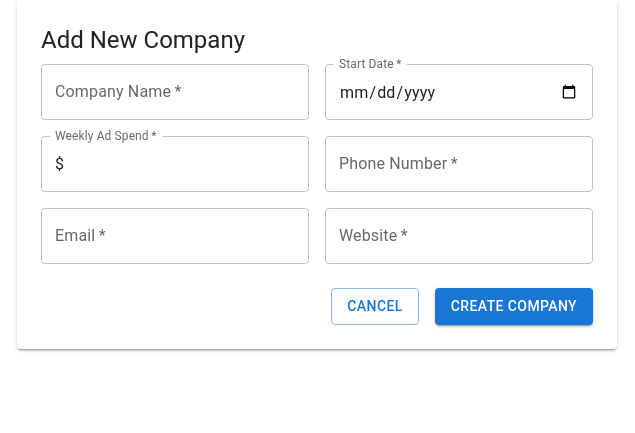
Scenario: CompanyForm › Create Mode › handles API errors
// Fill out the form with valid data
Type "Test Company" into the field labelled "Company Name *". click: (175, 92)
box: [41, 64, 309, 120]
Type "2023-01-01" into the date field labelled "Start Date *". click: (459, 92)
box: [325, 64, 593, 120]
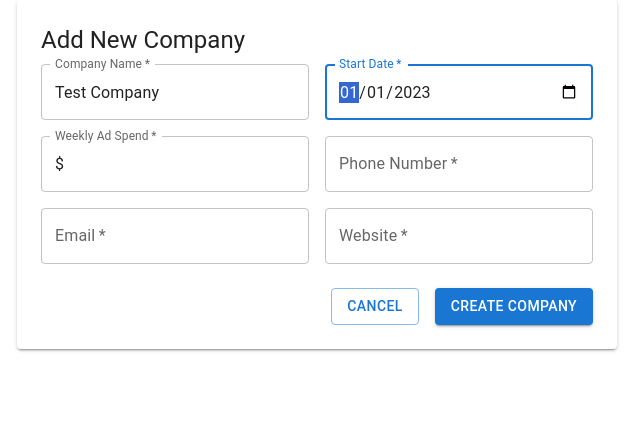
Type "+1234567890" into the field labelled "Phone Number *". click: (459, 164)
box: [325, 136, 593, 192]
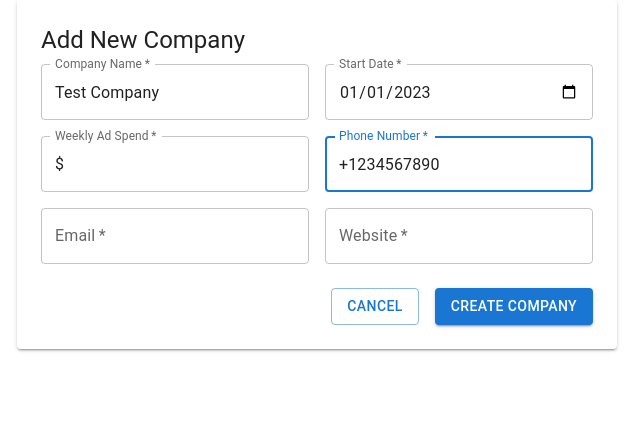
Type "test@company.com" into the field labelled "Email *". click: (175, 236)
box: [41, 208, 309, 264]
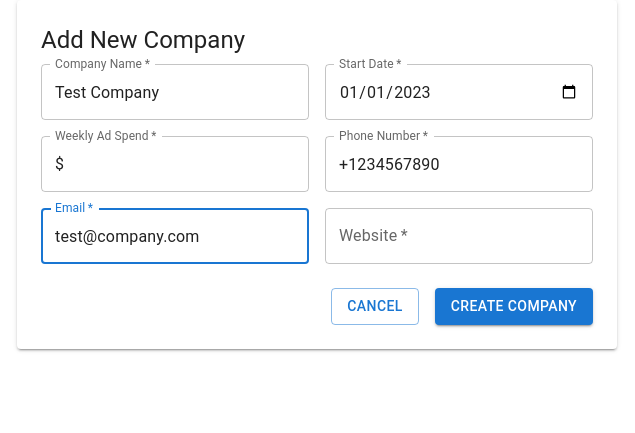
Type "https://testcompany.com" into the field labelled "Website *". click: (459, 236)
box: [325, 208, 593, 264]
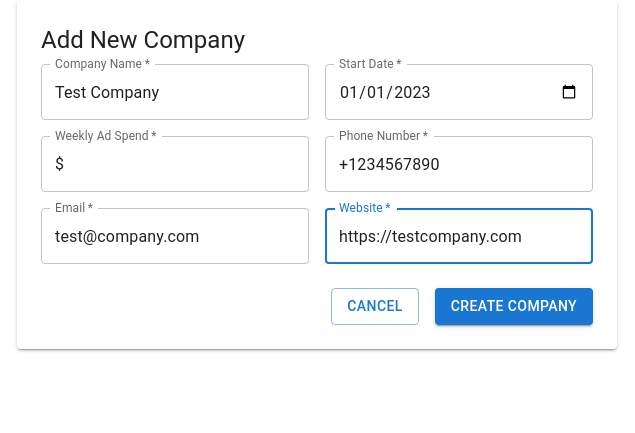
Type "5000" into the number field labelled "Weekly Ad Spend *". click: (191, 164)
box: [72, 136, 309, 192]
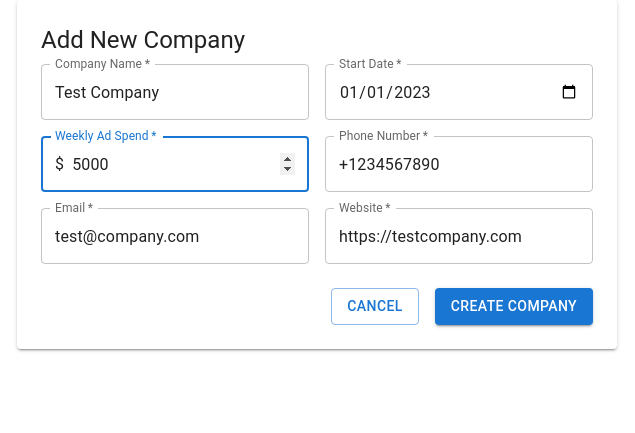
Click the button "Create Company". click: (514, 307)
box: [435, 288, 593, 325]
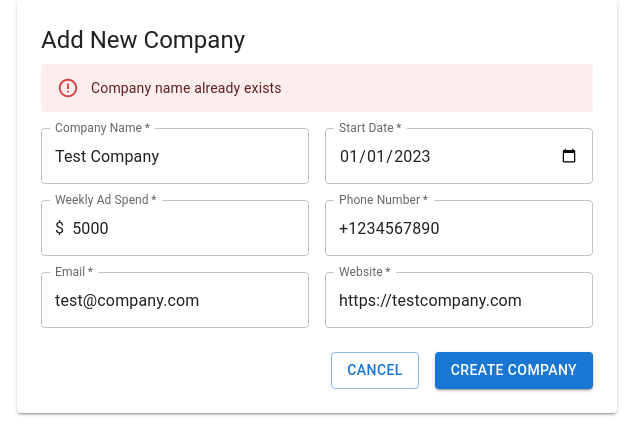
Check: the text "Company name already exists" is shown, box [91, 80, 282, 96]
